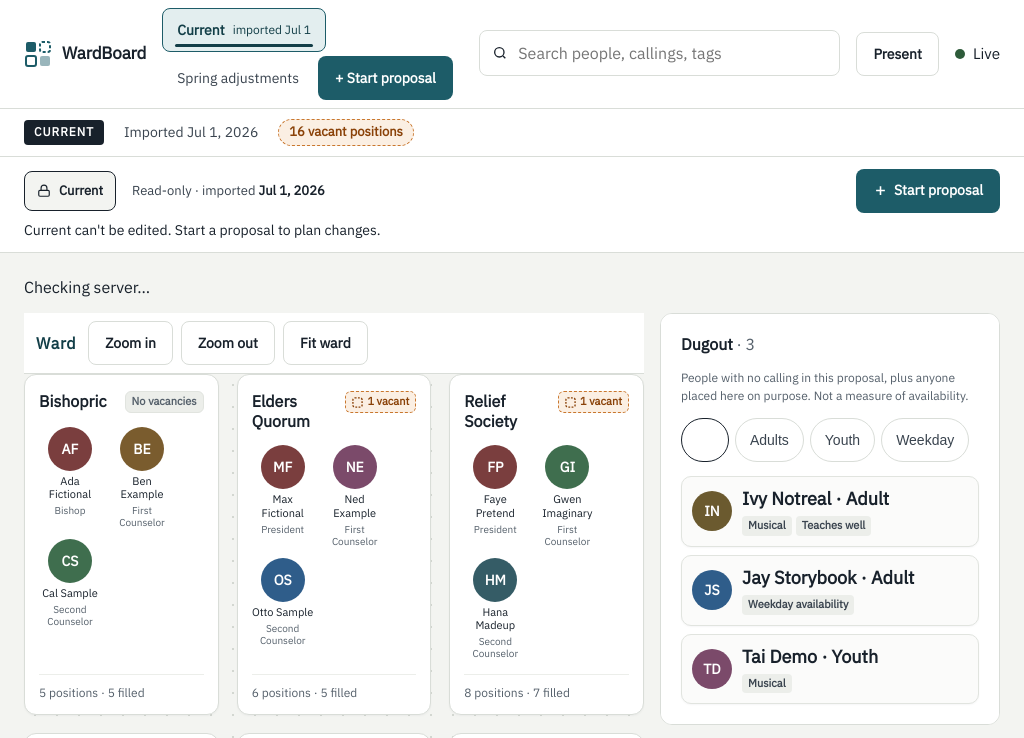
Test: person-panel › member removed from the ward while selected
Click the tab "Spring adjustments" at (238, 78), box [162,56,314,100]
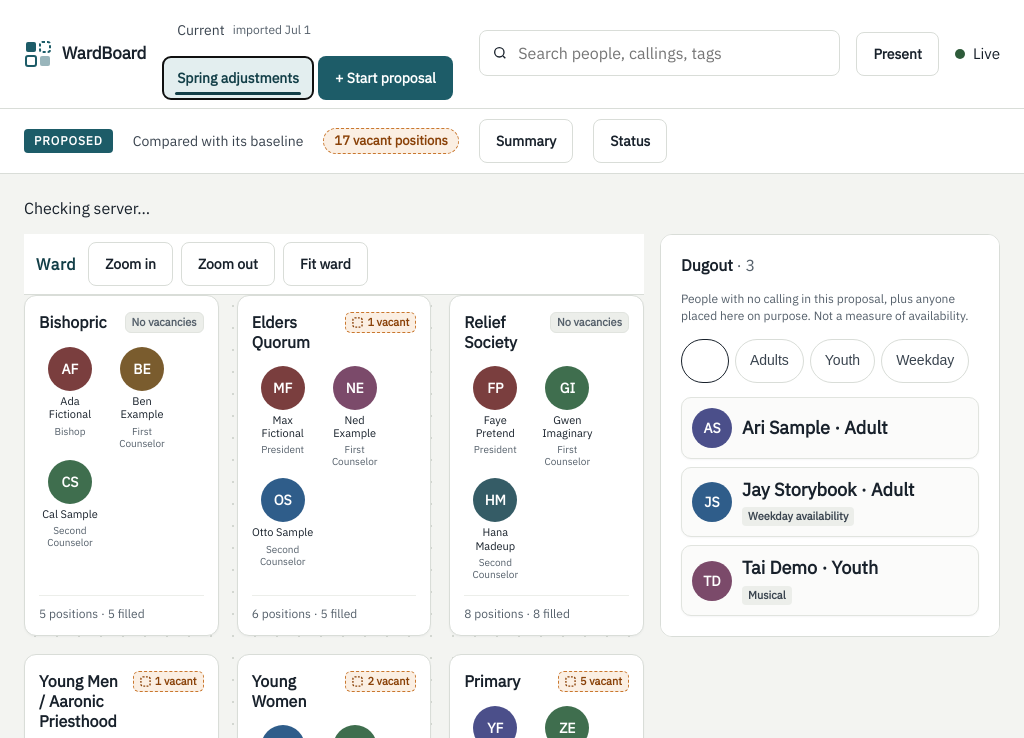
Click the text "Jay Storybook · Adult" at (828, 489), box [742,478,914,501]
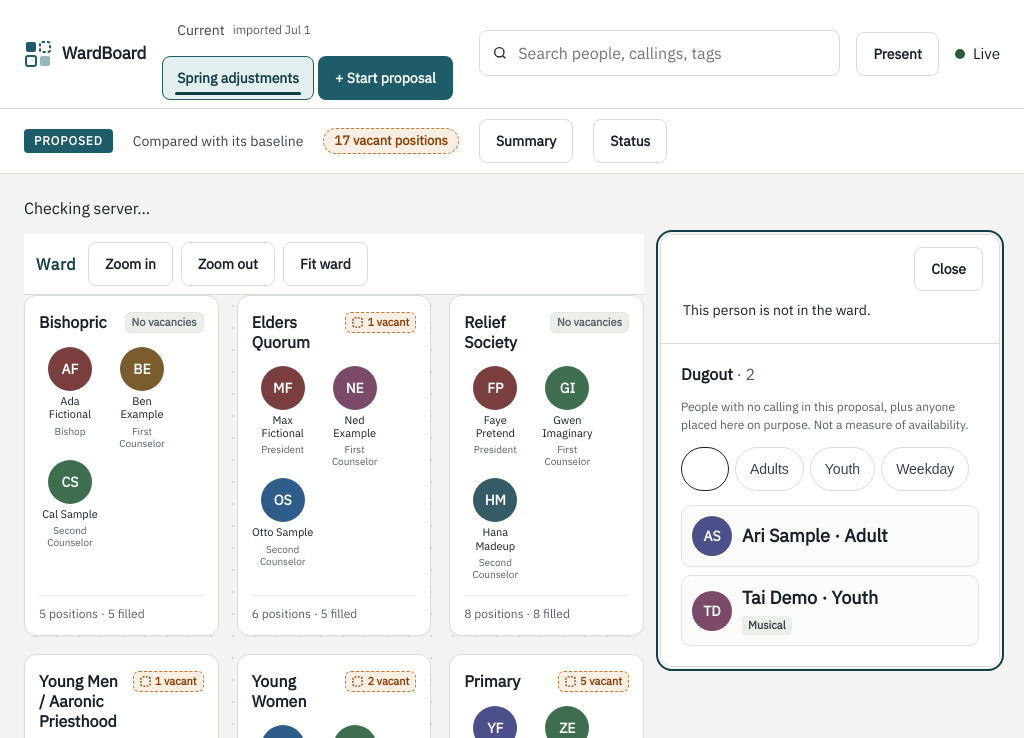
Check: the element named "Person: Jay Storybook" is shown, box [661,291,999,343]
Check: the text "This person is not in the ward." is shown, box [683,301,871,319]
